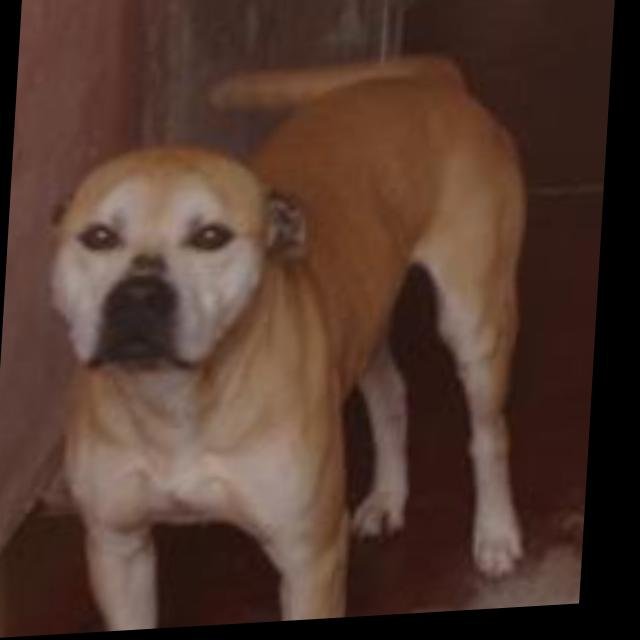amstaff: (29, 51, 561, 638)
